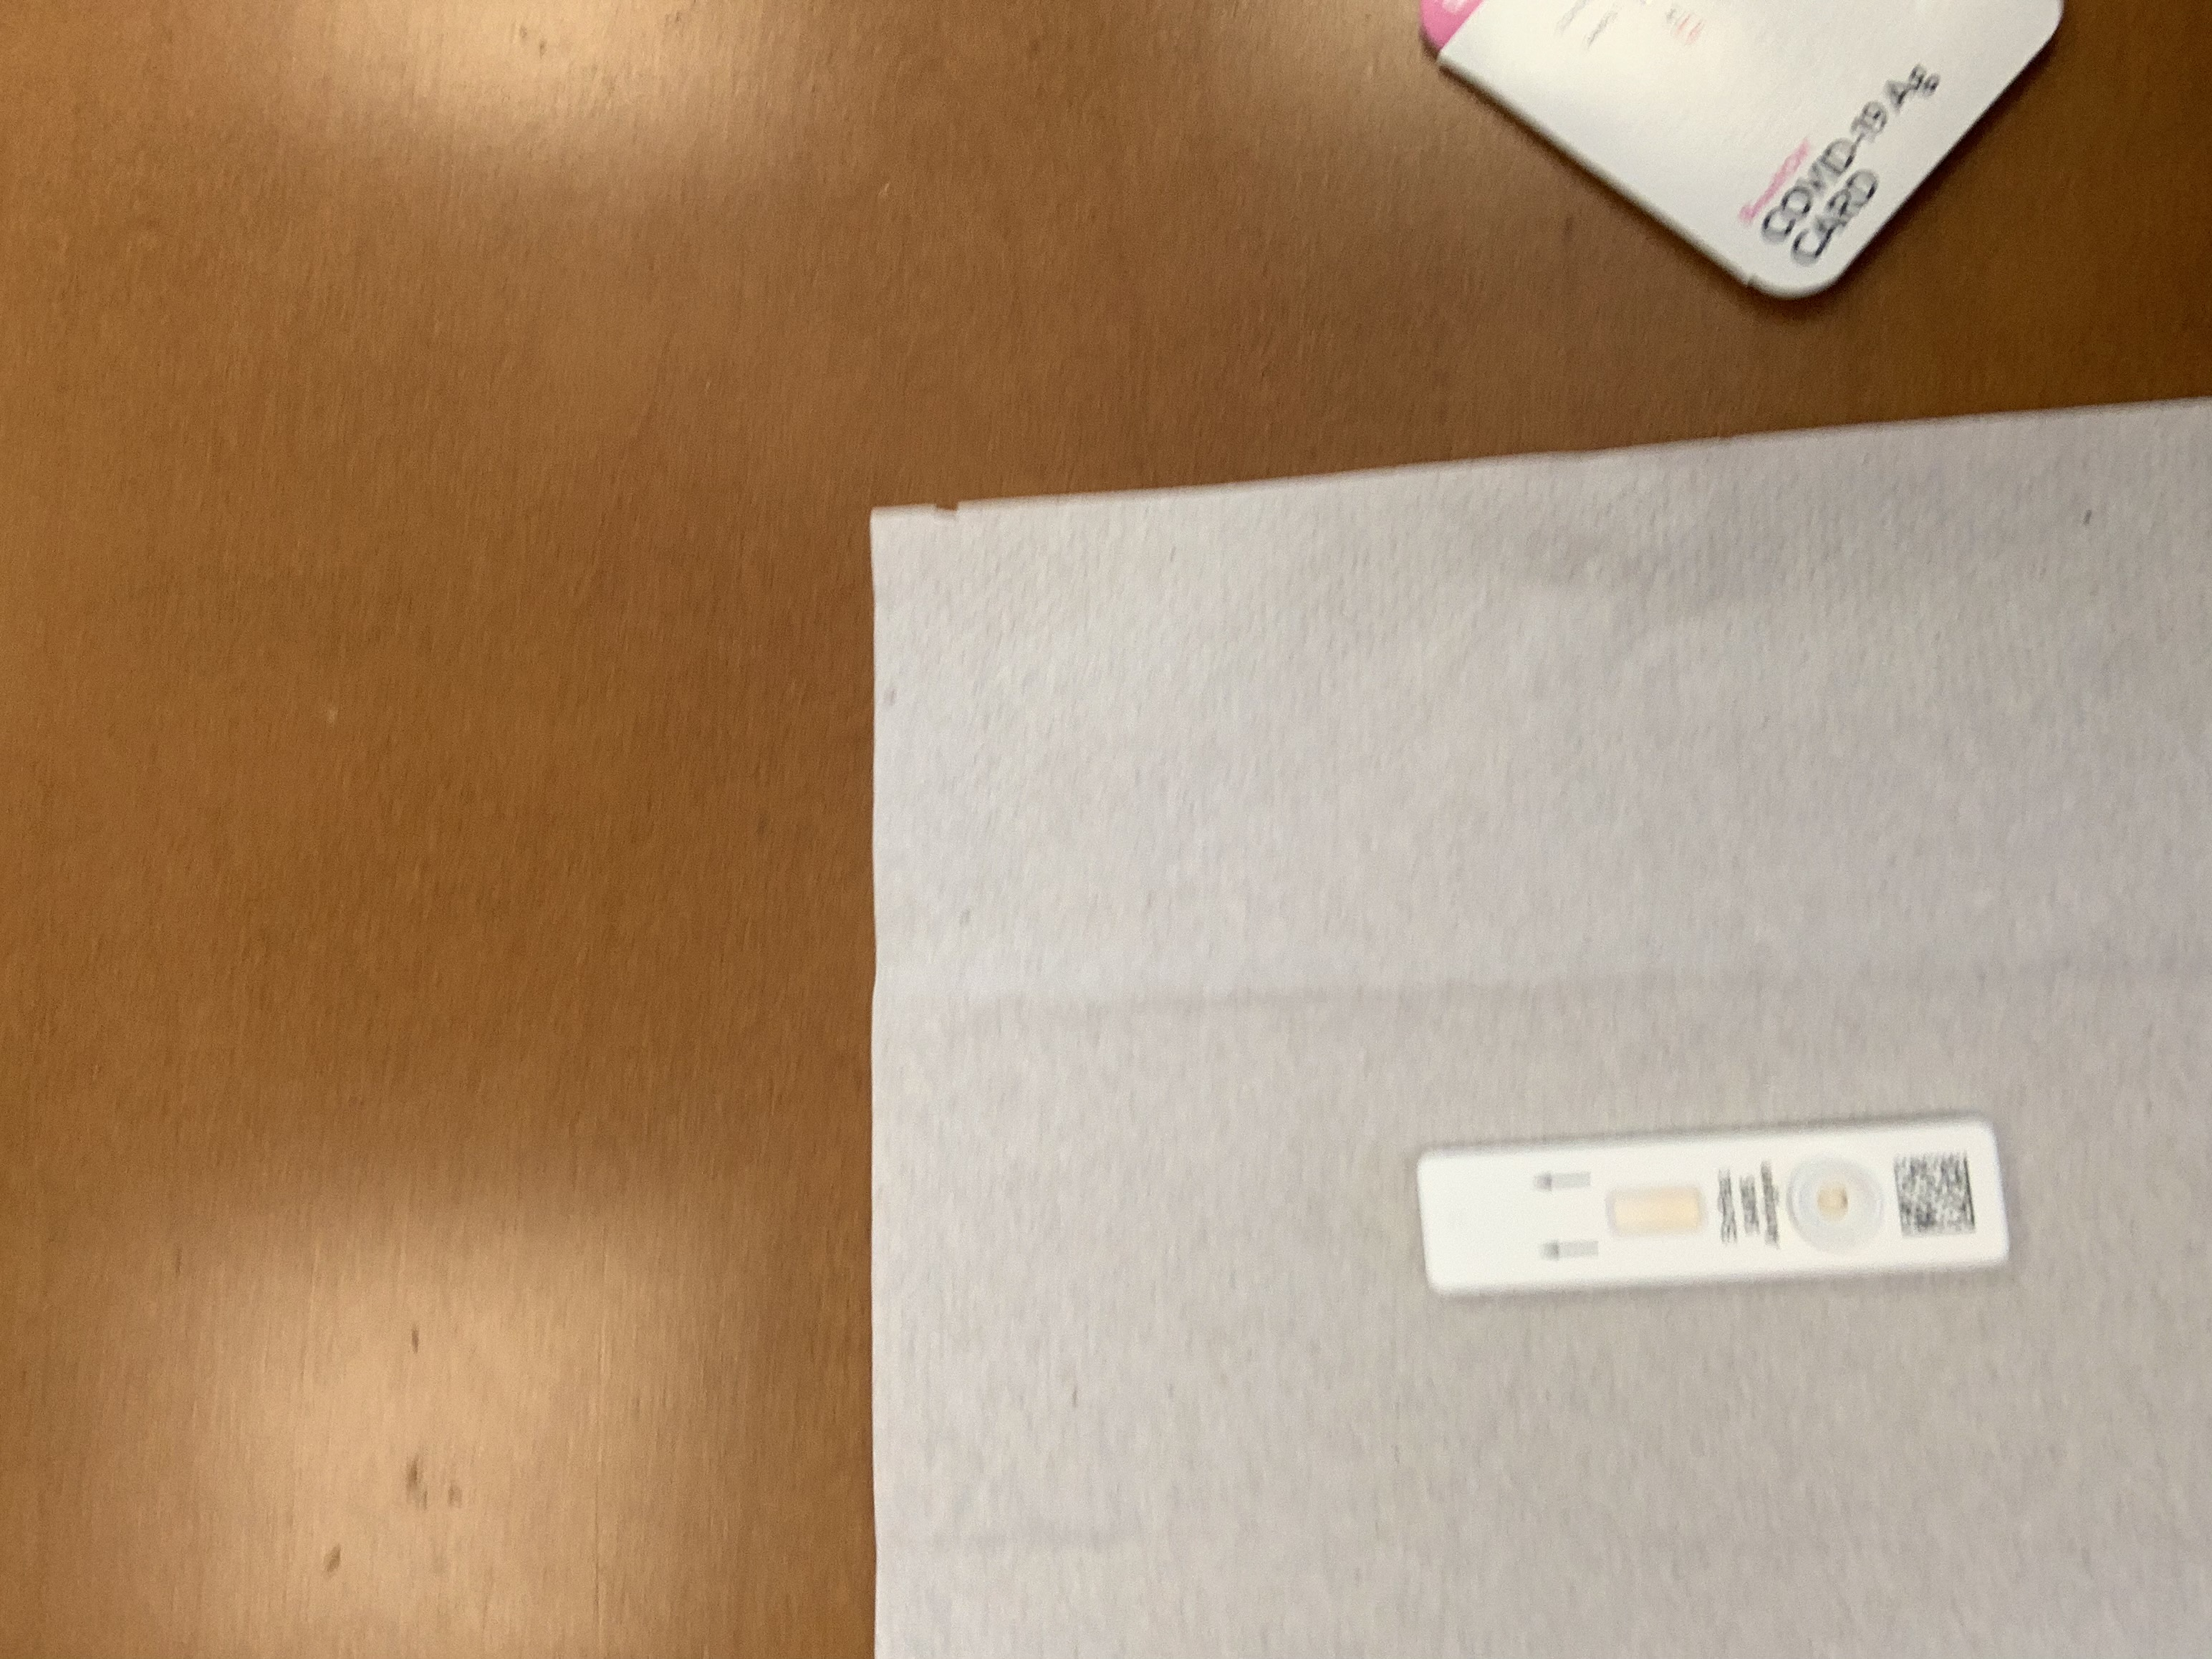binax: (1413, 9, 2120, 312)
quidel: (1411, 1115, 2020, 1298)
